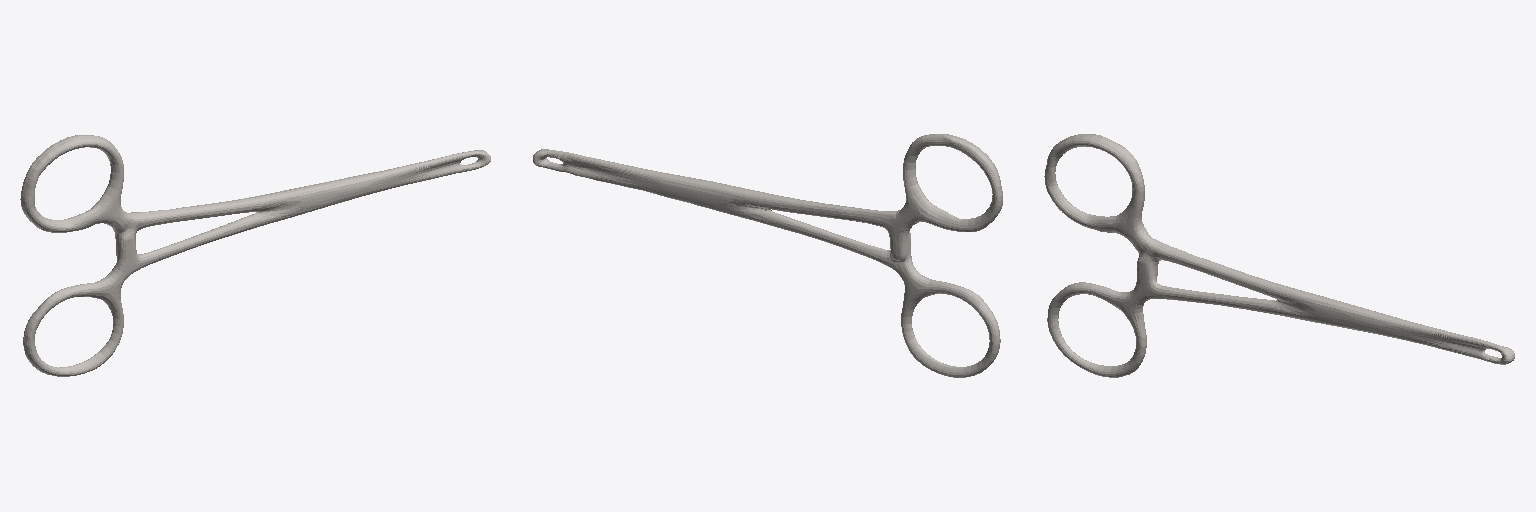
URDF robot description (Tooling_13):
<?xml version="1.0" encoding="utf-8"?>
<!-- This URDF was automatically created by SolidWorks to URDF Exporter! Originally created by Stephen Brawner (brawner@gmail.com)
     Commit Version: 1.6.0-4-g7f85cfe  Build Version: 1.6.7995.38578
     For more information, please see http://wiki.ros.org/sw_urdf_exporter -->
<robot
  name="Tooling_13">
  <link
    name="base_link">
    <inertial>
      <origin
        xyz="1.2442E-05 0.0014142 9.7159E-05"
        rpy="0 0 0" />
      <mass
        value="0.032339" />
      <inertia
        ixx="6.1362E-06"
        ixy="1.3802E-06"
        ixz="4.0492E-09"
        iyy="4.5285E-05"
        iyz="-2.5764E-08"
        izz="5.1354E-05" />
    </inertial>
    <visual>
      <origin
        xyz="0 0 0"
        rpy="0 0 0" />
      <geometry>
        <mesh
          filename="../meshes/base_link.STL" />
      </geometry>
      <material
        name="">
        <color
          rgba="0.77647 0.75686 0.73725 1" />
      </material>
    </visual>
    <collision>
      <origin
        xyz="0 0 0"
        rpy="0 0 0" />
      <geometry>
        <mesh
          filename="../meshes/base_link.STL" />
      </geometry>
    </collision>
  </link>
</robot>

--- Render facts (derived) ---
Views: 3 orthographic renders of the robot side by side, from view 1: azimuth 30°, elevation 25°; view 2: azimuth 150°, elevation 25°; view 3: azimuth 330°, elevation 25°.
Robot: Tooling_13 — 1 links, 0 joints (none); root link base_link; default pose: every joint at zero.
Links seen in each view (by area): view 1: base_link; view 2: base_link; view 3: base_link.
Link boxes in pixels (x1,y1,x2,y2): base_link: (20, 135, 490, 376); base_link: (533, 134, 1002, 377); base_link: (1044, 134, 1514, 377).
Size in the robot's own frame: 0.142 by 0.0053 by 0.0694 metres.
1 mesh visuals loaded from 1 distinct referenced files (1 binary STL).
